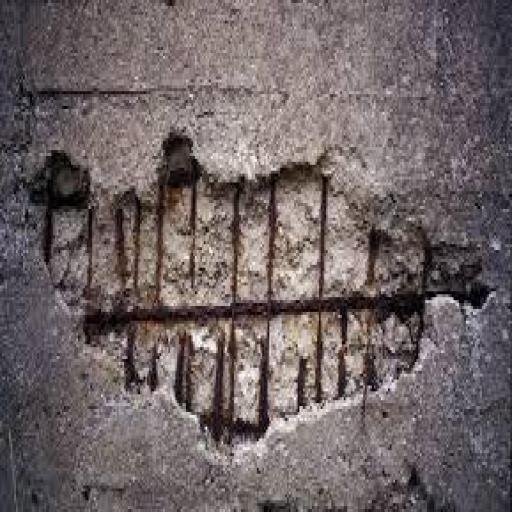spalling: (34, 136, 495, 447)
